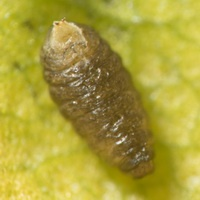insect: (41, 19, 153, 176)
